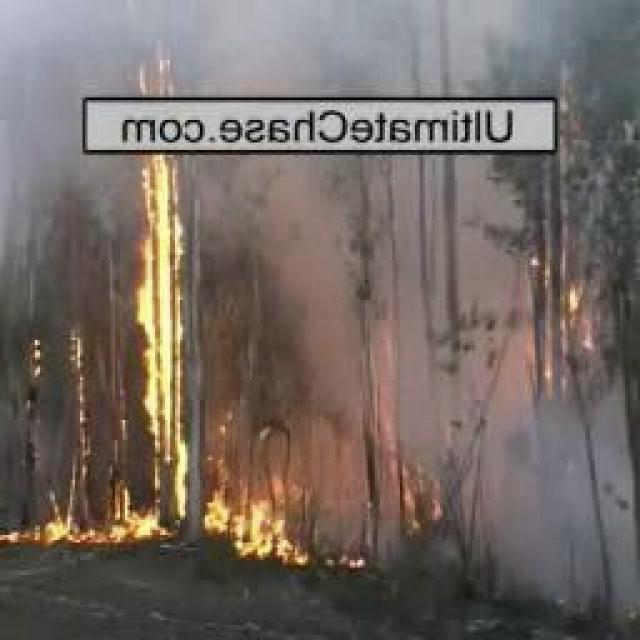Fire: (134, 55, 187, 537), (215, 487, 303, 568), (532, 266, 588, 391), (0, 508, 91, 542), (406, 473, 439, 526)
